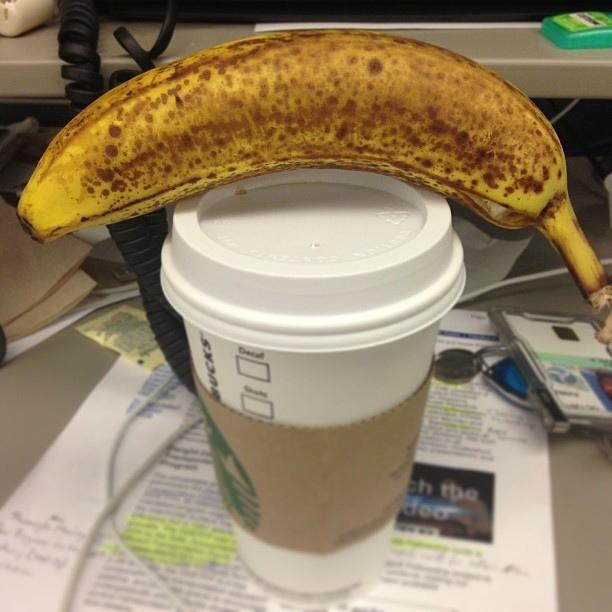banana: (16, 29, 610, 308)
